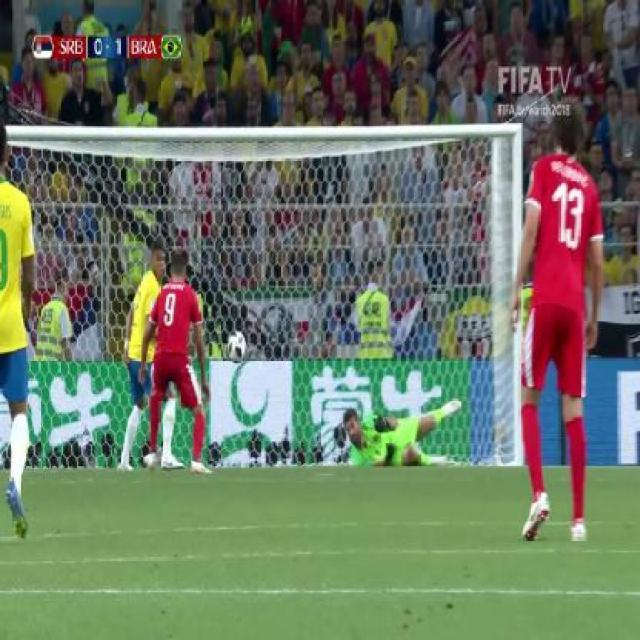ball: (226, 325, 248, 368)
player: (502, 93, 610, 553), (136, 234, 216, 488), (0, 95, 43, 551), (115, 232, 174, 474), (329, 378, 466, 474)
